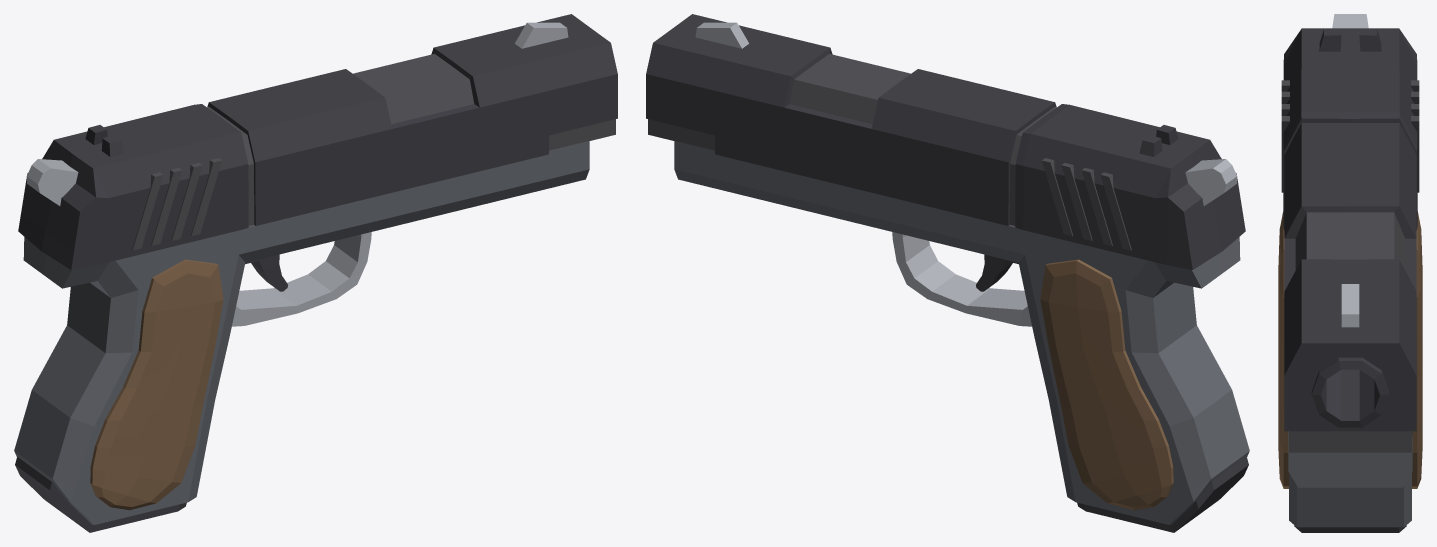
Rendered from Pistol_1.glb.
The picture shows the model from 3 angles, left to right: view 1: azimuth 30°, elevation 25°; view 2: azimuth 150°, elevation 25°; view 3: azimuth 270°, elevation 25°; orthographic projection. The views are drawn at different scales.
Parts seen in each view (by area): view 1: Pistol_1; view 2: Pistol_1; view 3: Pistol_1.
Part boxes in pixels (<box>): Pistol_1: <box>14,14,617,532</box>; Pistol_1: <box>646,14,1249,532</box>; Pistol_1: <box>1278,14,1422,532</box>.
Bounding box in the file's own units: 1.82 × 1.16 × 0.3232.
